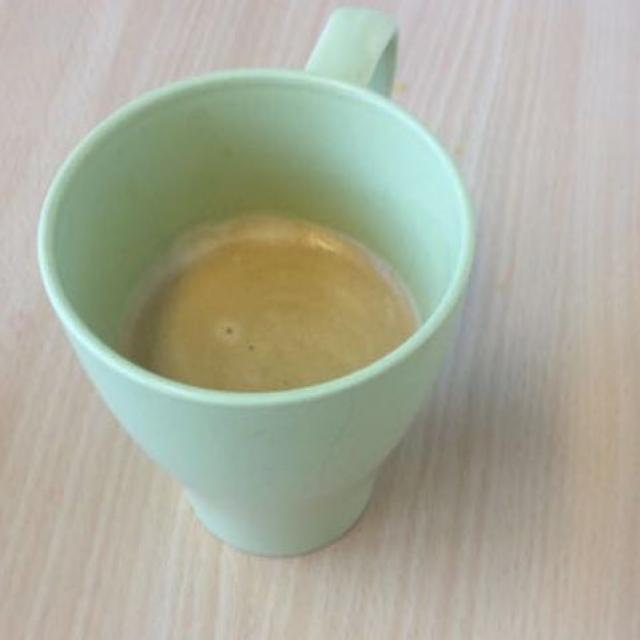coffee: (122, 205, 411, 389)
